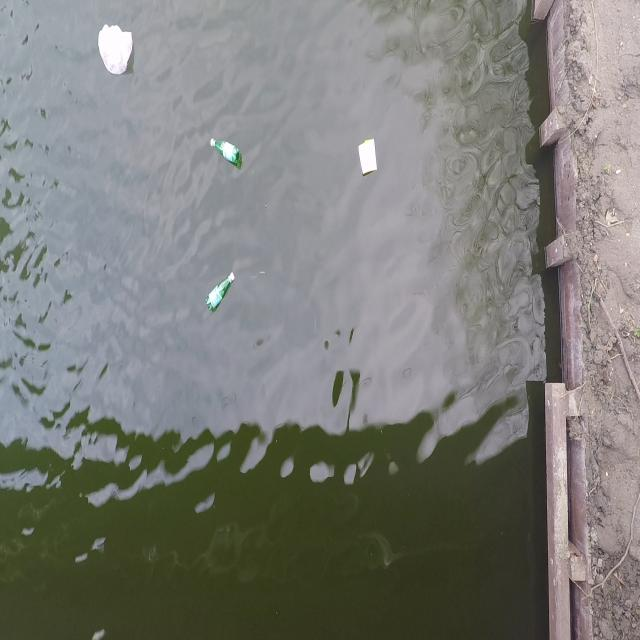Autre plastique: (353, 128, 383, 182)
Bouteille plastique: (201, 260, 242, 320), (206, 129, 246, 174)
Sac plastique: (96, 14, 137, 79)
